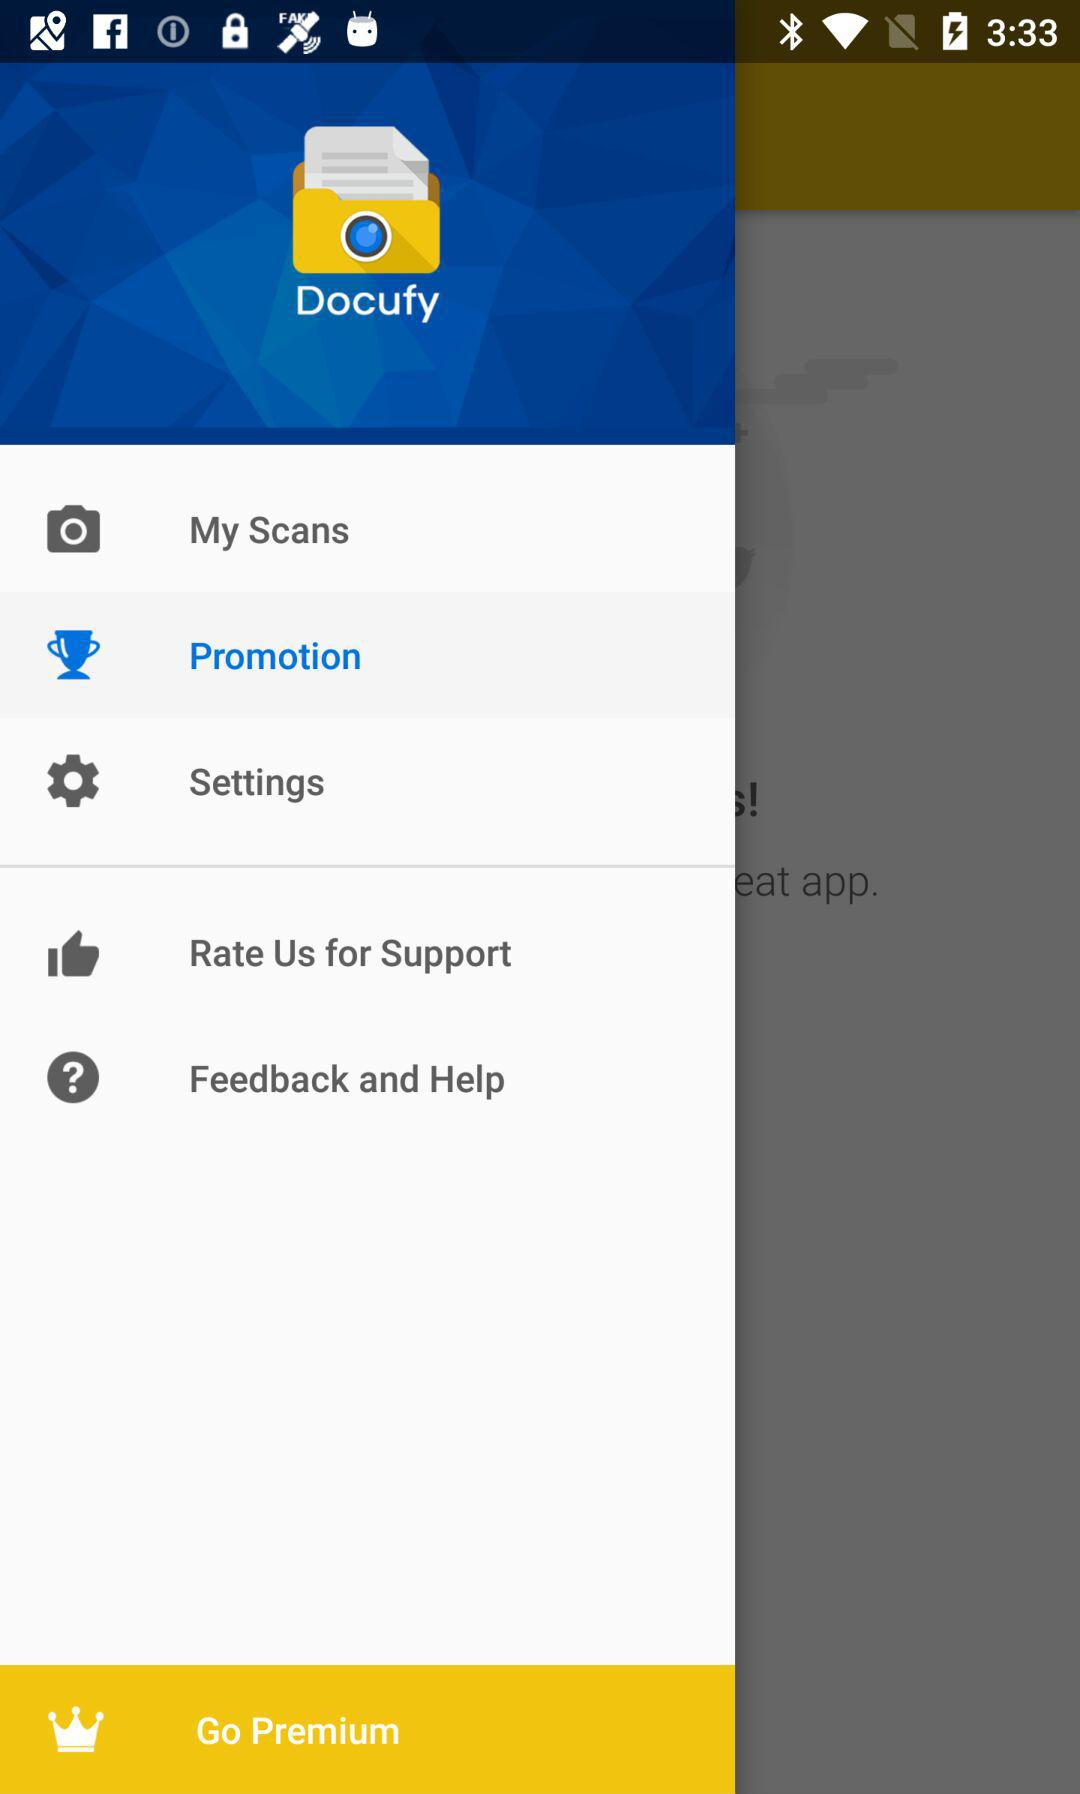Drawer: (1, 64, 735, 1794)
Icon: (47, 1049, 101, 1105), (47, 753, 101, 809), (47, 504, 102, 554)
Image: (292, 126, 441, 276), (47, 629, 102, 680), (47, 929, 102, 978)
Text: (191, 937, 512, 976), (190, 1062, 506, 1102), (190, 514, 351, 554), (296, 282, 442, 325), (190, 641, 363, 671), (190, 766, 325, 805)
TextButton: (1, 1665, 735, 1794)
UpperTaskBar: (1, 1, 1080, 64)
